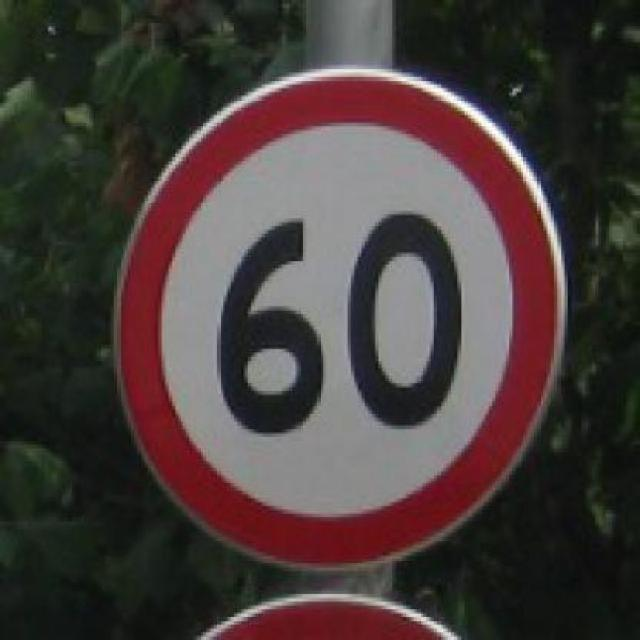Limite-60: (104, 59, 566, 576)
